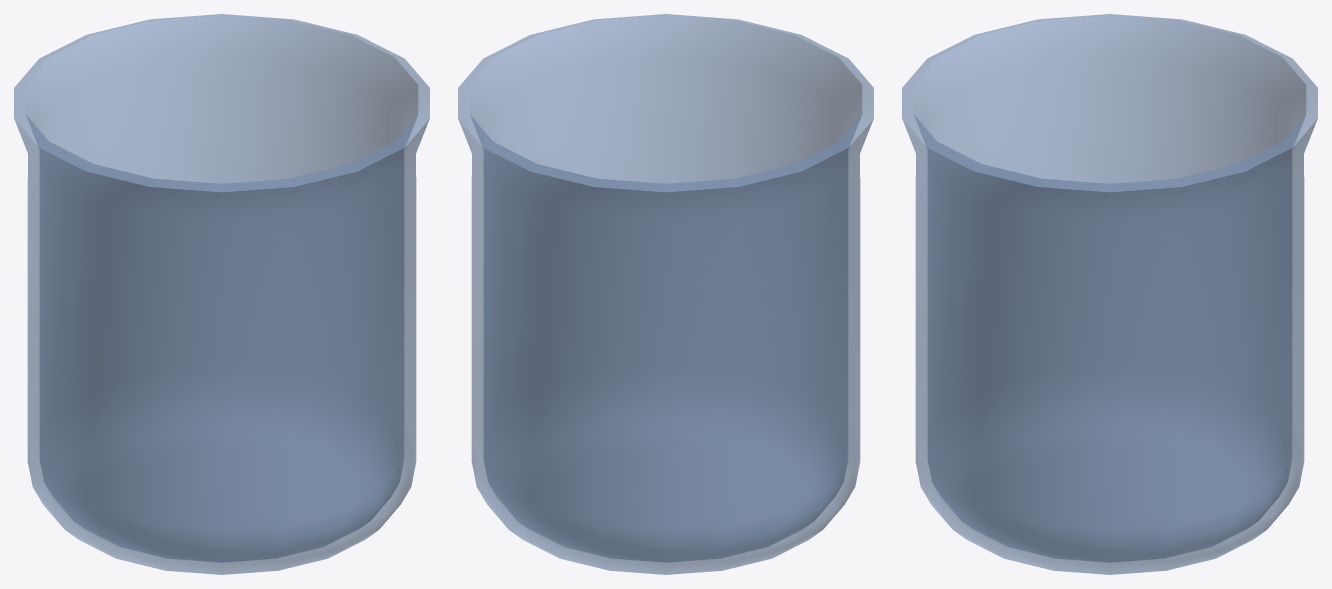
Rendered from nadobka.fbx.
3 views of the same model, side by side, from view 1: azimuth 30°, elevation 25°; view 2: azimuth 150°, elevation 25°; view 3: azimuth 270°, elevation 25° (orthographic).
Visible parts, largest first — view 1: nadobka; view 2: nadobka; view 3: nadobka.
Part boxes in pixels (x1,y1,x2,y2): nadobka: (14, 14, 429, 574); nadobka: (458, 14, 873, 574); nadobka: (902, 14, 1317, 574).
Size of the model in its own units: 8.57 by 9.21 by 8.44.
